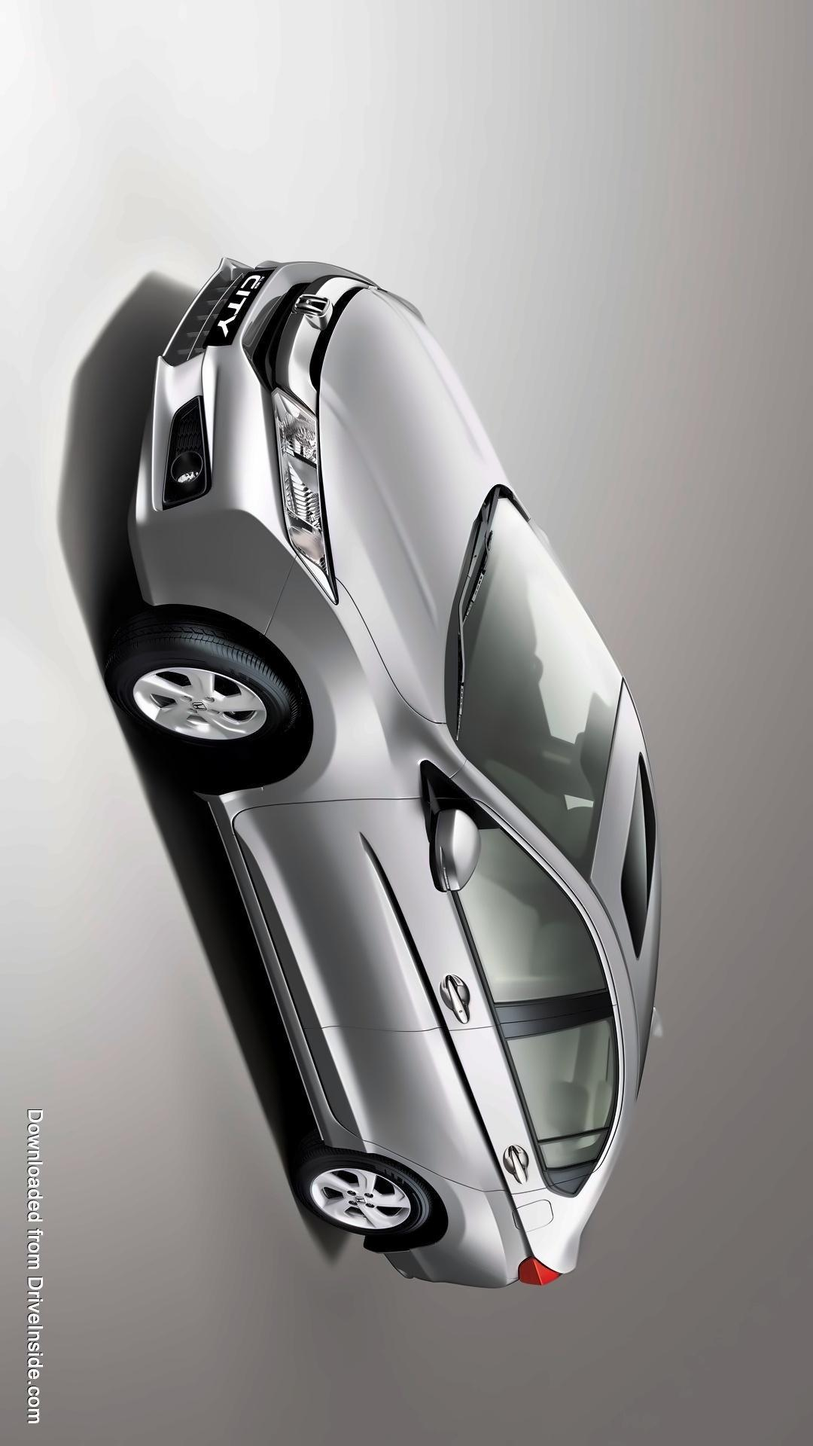Car hood: (318, 274, 511, 729)
Fender - -F-L-: (215, 547, 471, 818)
Fender - -R-L-: (313, 1131, 575, 1276)
Front bumper: (121, 250, 311, 637)
Headlight - -L-: (261, 377, 350, 605)
Passenger-s door - -F-L-: (229, 792, 625, 1033)
Passenger-s door - -R-L-: (294, 1015, 634, 1194)
Rear bumper: (351, 1223, 522, 1294)
Rear light - -L-: (512, 1246, 574, 1294)
Side bumper - -L-: (190, 776, 347, 1156)
Side mirror - -L-: (407, 794, 489, 901)
